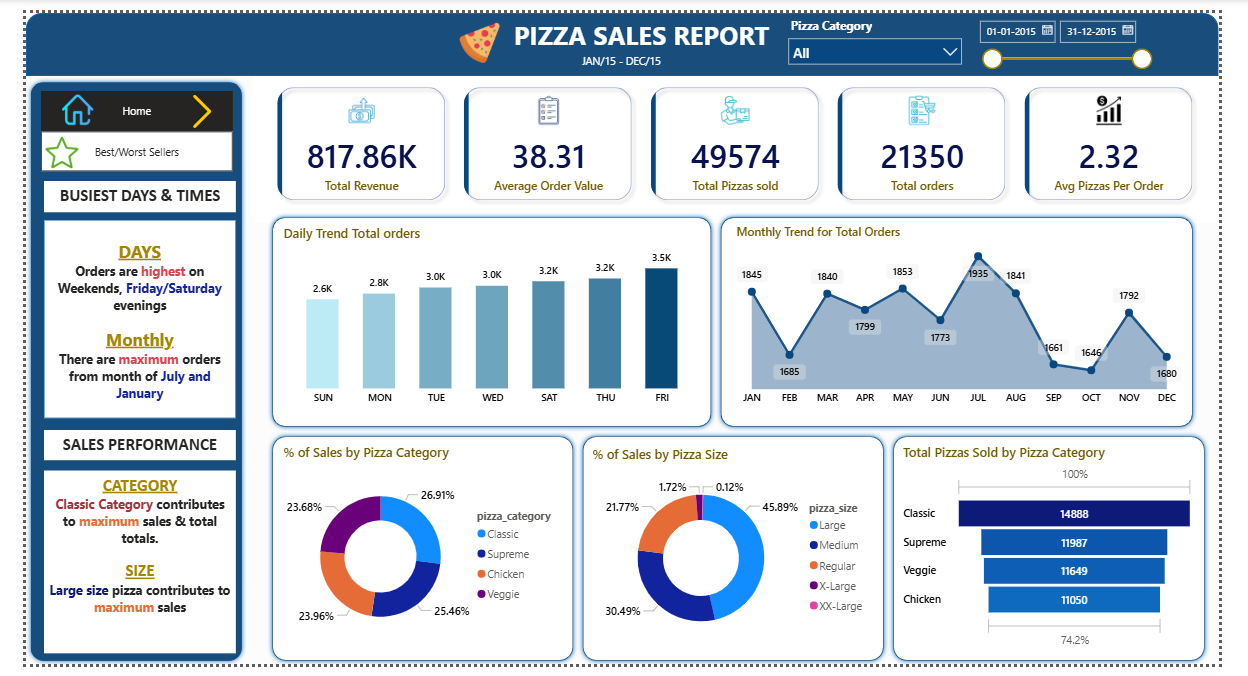

What the dashboard file says about the page in this screenshot:
{"tool":"powerbi","page":{"name":"Home","canvas":[1500,820],"ordinal":0},"visuals":[{"type":"shape","box":[0,81.1,277.4,739.6],"z":0},{"type":"cardVisual","fields":{"Data":["pizza_sales.Total Revenue","pizza_sales.Average Order Value","pizza_sales.Total Pizzas sold","pizza_sales.Total orders","pizza_sales.Avg Pizzas Per Order"]},"box":[286.8,64.2,1213.2,200],"z":1000},{"type":"shape","box":[0,0,1500,79.2],"z":2000},{"type":"textbox","box":[558,0,432,66],"z":3000},{"type":"textbox","box":[693.8,45.8,110.4,36.1],"z":4000},{"type":"image","box":[528.3,11.3,84.9,52.8],"z":5000},{"type":"shape","box":[303.8,250.9,564.2,275.5],"z":6000},{"type":"columnChart","title":"Daily Trend Total orders","fields":{"Y":["pizza_sales.Total orders"],"Category":["pizza_sales.Order Day"]},"box":[318.9,266,535.8,235.8],"z":7000},{"type":"shape","box":[867.9,250.9,605.7,275.5],"z":8000},{"type":"areaChart","title":"Monthly Trend for Total Orders","fields":{"Y":["pizza_sales.Total orders"],"Category":["pizza_sales.Order MONTH"]},"box":[888.7,264.2,569.8,237.7],"z":9000},{"type":"shape","box":[303.8,526.4,390.6,294.3],"z":10000},{"type":"shape","box":[694.3,526.4,390.6,294.3],"z":11000},{"type":"shape","box":[1084.9,526.4,403.8,294.3],"z":12000},{"type":"donutChart","title":"% of Sales by Pizza Category","fields":{"Y":["pizza_sales.Total Revenue"],"Category":["pizza_sales.pizza_category"]},"box":[318.9,541.5,362.3,262.3],"z":13000},{"type":"donutChart","title":"% of Sales by Pizza Size","fields":{"Y":["pizza_sales.Total Revenue"],"Category":["pizza_sales.pizza_size"]},"box":[707.5,543.4,362.3,262.3],"z":14000},{"type":"funnel","title":"Total Pizzas Sold by Pizza Category","fields":{"Category":["pizza_sales.pizza_category"],"Y":["pizza_sales.Total Pizzas sold"]},"box":[1098.1,541.5,375.5,262.3],"z":15000},{"type":"textbox","box":[22.6,211.3,241.5,39.6],"z":16000},{"type":"textbox","box":[22.6,260.4,241.5,249.1],"z":17000},{"type":"textbox","box":[22.6,524.5,241.5,37.7],"z":18000},{"type":"textbox","box":[22.6,575.5,241.5,230.2],"z":19000},{"type":"slicer","fields":{"Values":["pizza_sales.pizza_category"]},"box":[949.1,0,237.7,79.2],"z":20000},{"type":"slicer","fields":{"Values":["pizza_sales.order_date"]},"box":[1186.8,0,237.7,79.2],"z":21000},{"type":"pageNavigator","box":[18.9,98.1,241.5,50.9],"z":22000},{"type":"pageNavigator","box":[18.9,149.1,241.5,50.9],"z":23000},{"type":"image","box":[200,98.1,43.4,50.9],"z":23001},{"type":"image","box":[45.3,94.3,39.6,54.7],"z":23002},{"type":"image","box":[24.5,150.9,41.5,49.1],"z":23003}]}

Visuals, with their boxes in screenshot pixels (x1, y1, x2, y2), scaled from the page's 1500x820 canvas onto the 1248x676 screenshot:
shape: (x1=0, y1=67, x2=231, y2=675)
cardVisual - pizza_sales.Total Revenue x pizza_sales.Average Order Value: (x1=239, y1=53, x2=1247, y2=218)
shape: (x1=0, y1=0, x2=1247, y2=65)
textbox: (x1=464, y1=0, x2=824, y2=54)
textbox: (x1=577, y1=38, x2=669, y2=68)
image: (x1=440, y1=9, x2=510, y2=53)
shape: (x1=253, y1=207, x2=722, y2=434)
"Daily Trend Total orders" columnChart: (x1=265, y1=219, x2=711, y2=414)
shape: (x1=722, y1=207, x2=1226, y2=434)
"Monthly Trend for Total Orders" areaChart: (x1=739, y1=218, x2=1213, y2=414)
shape: (x1=253, y1=434, x2=578, y2=675)
shape: (x1=578, y1=434, x2=903, y2=675)
shape: (x1=903, y1=434, x2=1239, y2=675)
"% of Sales by Pizza Category" donutChart: (x1=265, y1=446, x2=567, y2=663)
"% of Sales by Pizza Size" donutChart: (x1=589, y1=448, x2=890, y2=664)
"Total Pizzas Sold by Pizza Category" funnel: (x1=914, y1=446, x2=1226, y2=663)
textbox: (x1=19, y1=174, x2=220, y2=207)
textbox: (x1=19, y1=215, x2=220, y2=420)
textbox: (x1=19, y1=432, x2=220, y2=463)
textbox: (x1=19, y1=474, x2=220, y2=664)
slicer - pizza_sales.pizza_category: (x1=790, y1=0, x2=987, y2=65)
slicer - pizza_sales.order_date: (x1=987, y1=0, x2=1185, y2=65)
pageNavigator: (x1=16, y1=81, x2=217, y2=123)
pageNavigator: (x1=16, y1=123, x2=217, y2=165)
image: (x1=166, y1=81, x2=203, y2=123)
image: (x1=38, y1=78, x2=71, y2=123)
image: (x1=20, y1=124, x2=55, y2=165)
